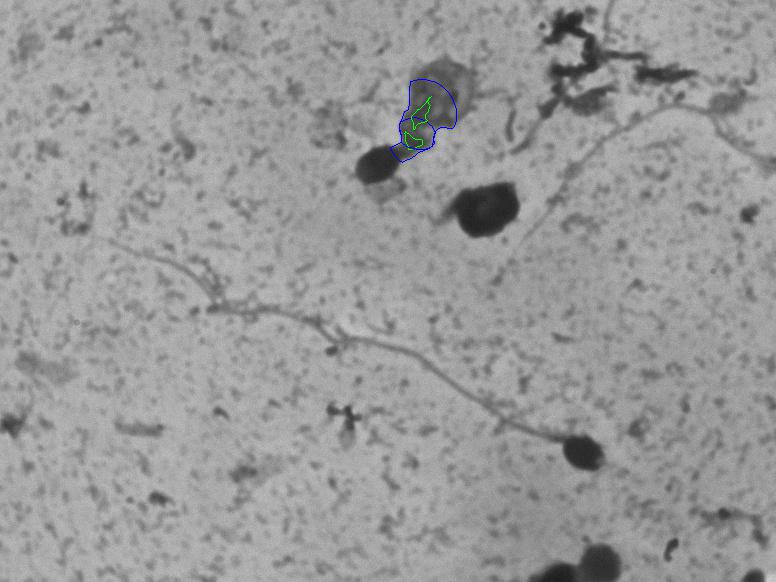Abnormal: (77, 217, 614, 486)
